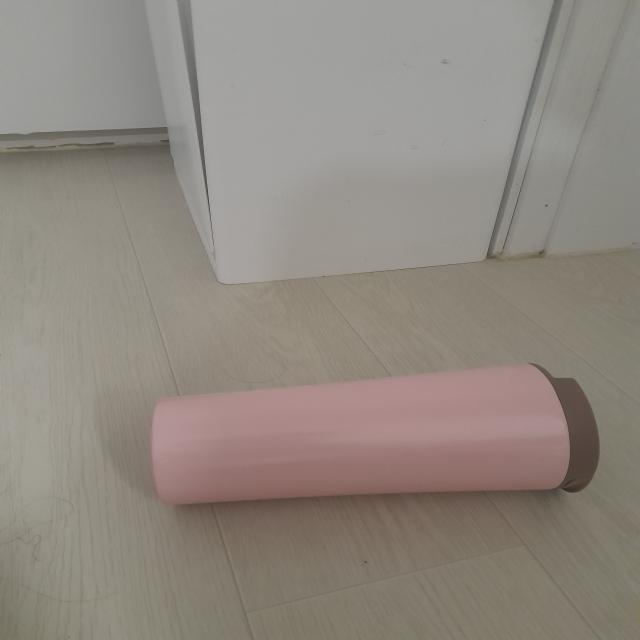waterbottle: (150, 367, 597, 498)
